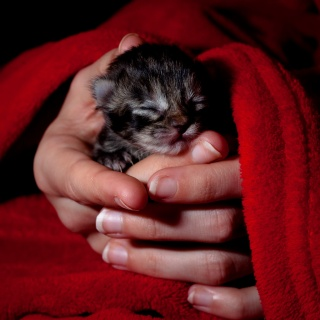Cat: (82, 40, 212, 173)
